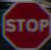Stop: (5, 2, 48, 43)
